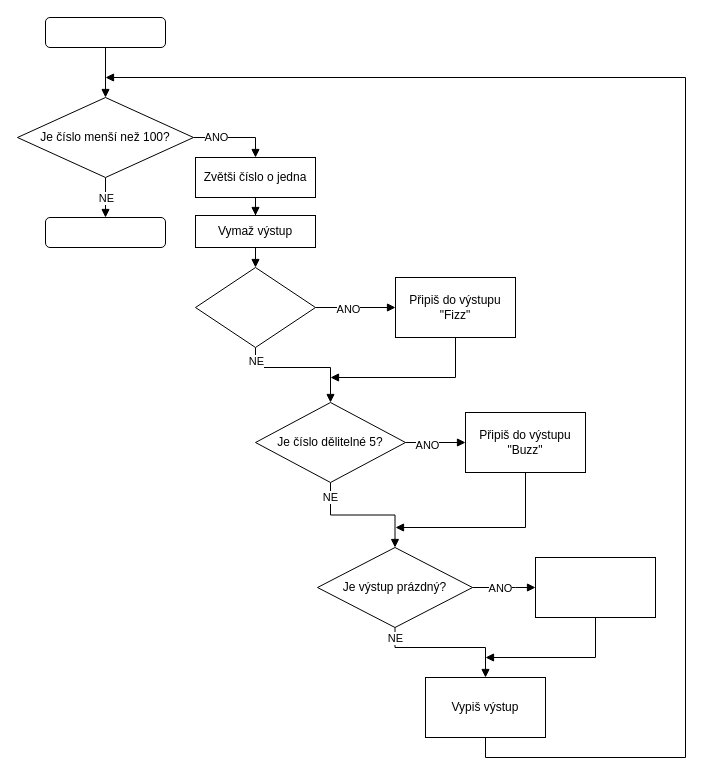
The diagram is 711 pixels wide and 783 high, and some of its shapes have lost their labels. Here are the shapes that lost their labels. From the top down, the centre of each, then its label:
At (105,32): "START".
At (105,232): "KONEC".
At (255,307): "Je číslo dělitelné 3?".
At (595,587): "Připiš do výstupu číslo".
